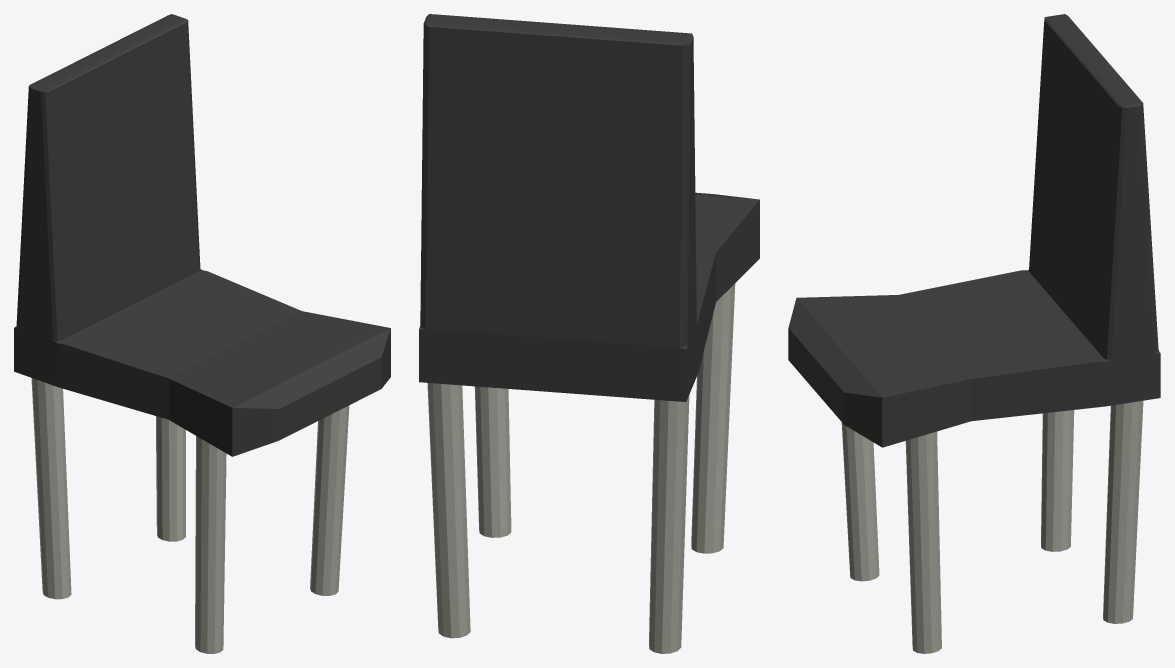
File: office-chair--3.gltf
The picture shows the model from 3 angles, left to right: view 1: azimuth 30°, elevation 25°; view 2: azimuth 150°, elevation 25°; view 3: azimuth 270°, elevation 25°; orthographic projection. The views are drawn at different scales.
Parts seen in each view (by area): view 1: Seat1; view 2: Seat1; view 3: Seat1.
Part boxes in pixels (bbox=[...]): Seat1: bbox=[14, 14, 390, 653]; Seat1: bbox=[419, 14, 759, 653]; Seat1: bbox=[788, 14, 1160, 653].
Size of the model in its own units: 0.5534 by 0.9681 by 0.6261.
1 material, 1 textured.
